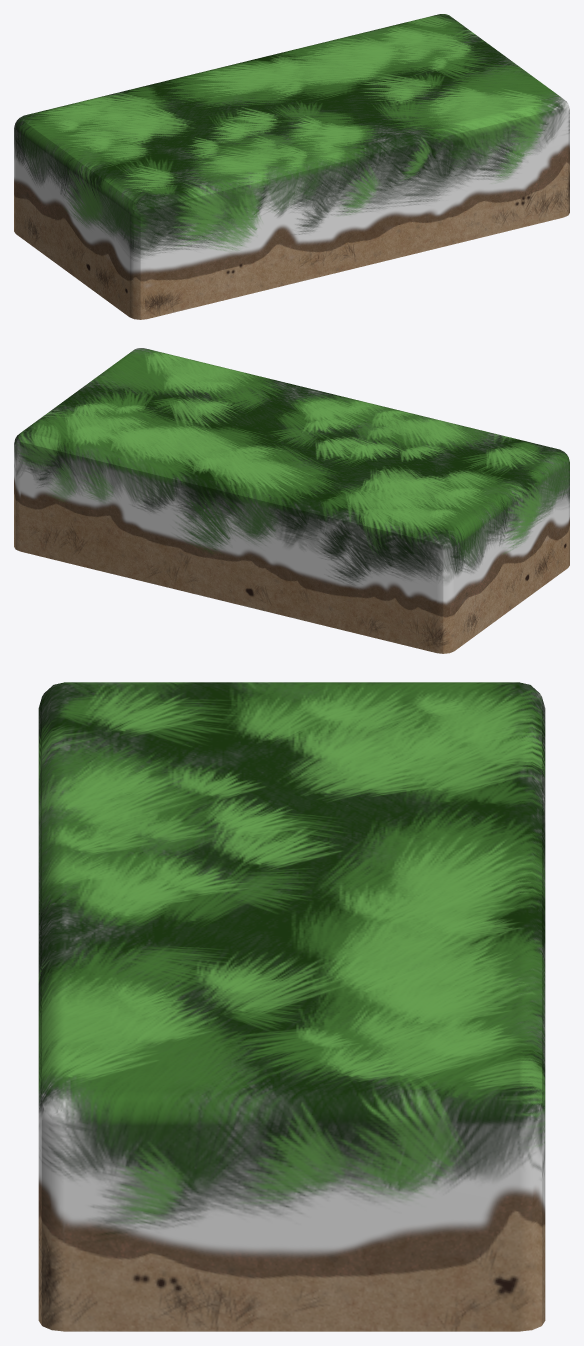
File: plainLongPlatform.fbx
The picture shows the model from 3 angles, top to bottom: view 1: azimuth 30°, elevation 25°; view 2: azimuth 150°, elevation 25°; view 3: azimuth 270°, elevation 25°; orthographic projection. The views are drawn at different scales.
Parts seen in each view (by area): view 1: longPlatform; view 2: longPlatform; view 3: longPlatform.
Boxes of the visible parts, x1,y1,x2,y2 form: longPlatform: (14,14,569,319); longPlatform: (14,348,569,653); longPlatform: (38,682,545,1331).
Bounding box in the file's own units: 100 × 25 × 50.
Materials: 1 (1 with a texture image).
